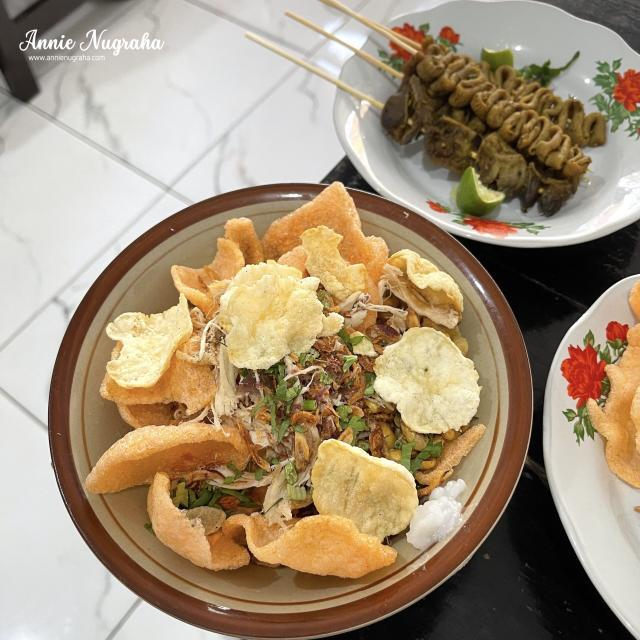bubur ayam: (138, 232, 478, 570)
piring: (47, 182, 534, 640), (332, 0, 640, 251), (540, 266, 640, 640)
